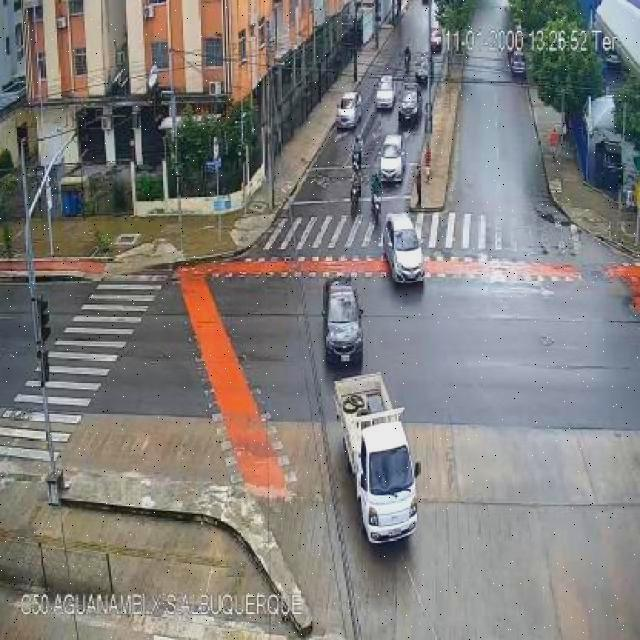Car: (320, 275, 368, 371), (379, 215, 426, 292), (378, 131, 404, 186), (335, 92, 363, 132), (400, 82, 421, 129), (374, 74, 396, 111), (414, 53, 432, 85), (511, 52, 529, 78)
Cycle: (369, 173, 383, 220), (349, 170, 362, 216), (352, 135, 364, 179), (401, 44, 413, 75)
Truck: (332, 374, 424, 547)
